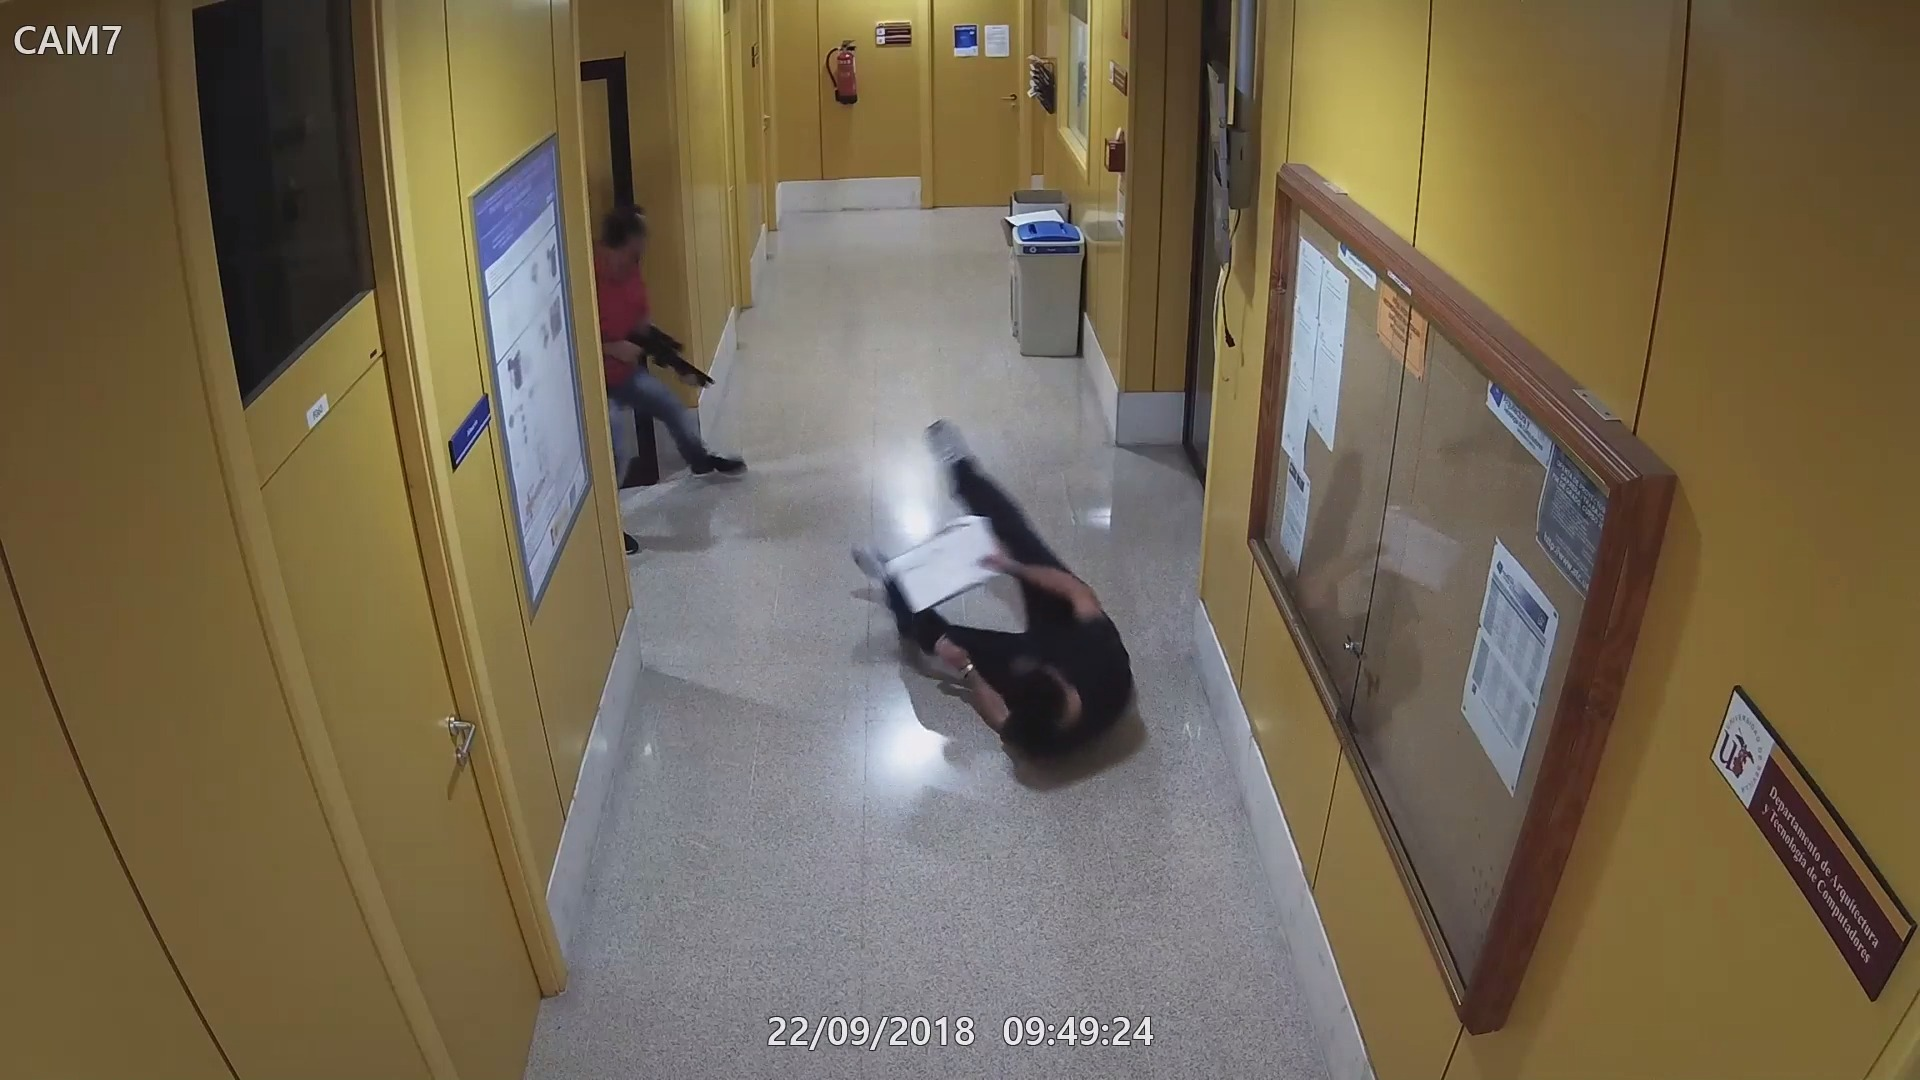Short_rifle: (625, 320, 717, 396)
